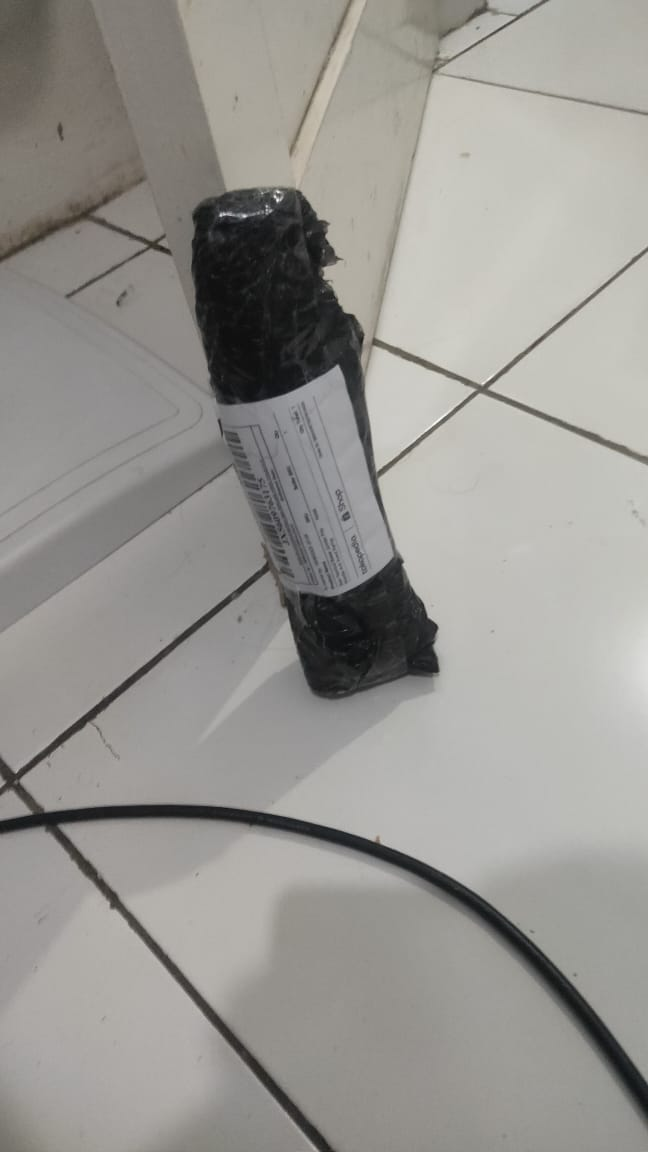damaged package: (300, 585, 380, 683)
undamaged: (191, 186, 439, 703)
